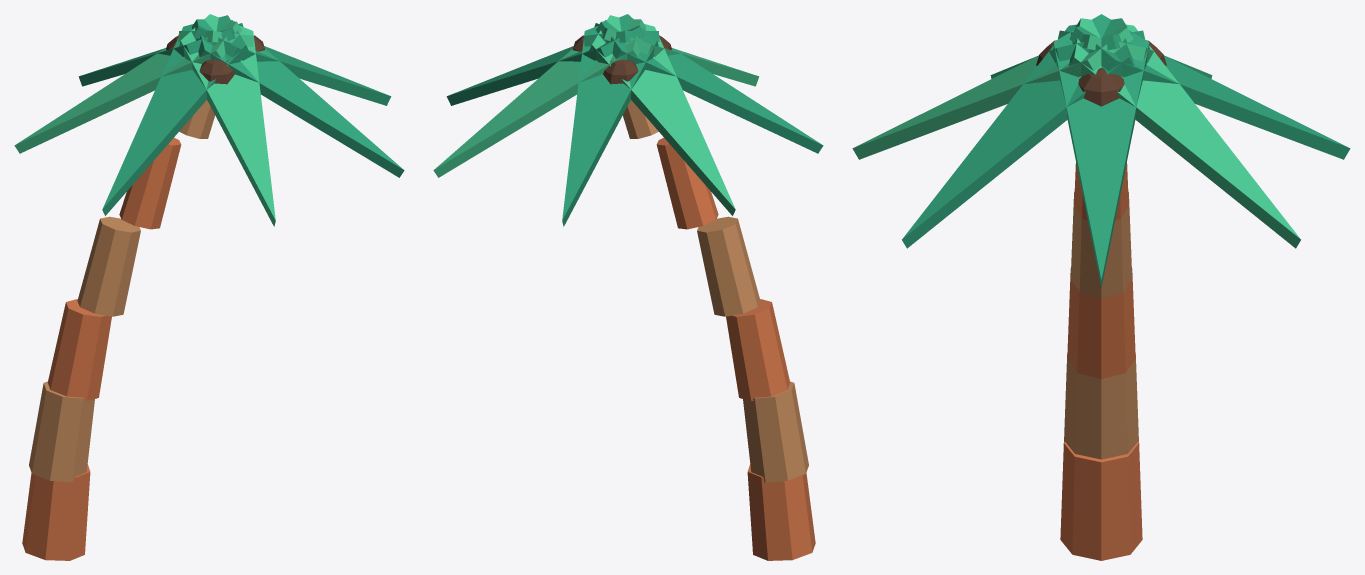
The model's file is prop_palm.glb.
The picture shows the model from 3 angles, left to right: view 1: azimuth 30°, elevation 25°; view 2: azimuth 150°, elevation 25°; view 3: azimuth 270°, elevation 25°; orthographic projection. The views are drawn at different scales.
Visible parts, largest first — view 1: prop_palm; view 2: prop_palm; view 3: prop_palm.
Part boxes in pixels (box(x1,y1,x2,y2)): prop_palm: box(14, 14, 404, 560); prop_palm: box(433, 14, 823, 560); prop_palm: box(852, 14, 1350, 560).
Bounding box in the file's own units: 3.12 × 3.99 × 2.91.
